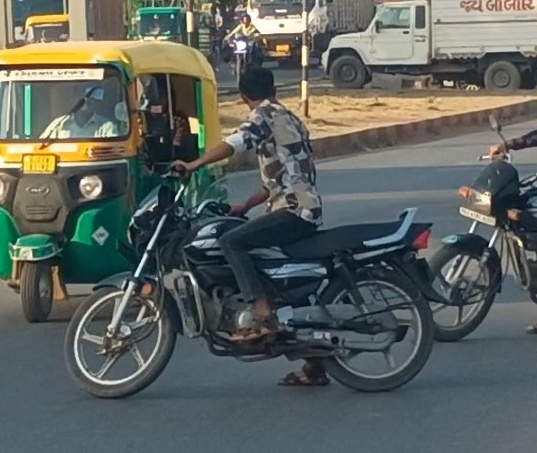BikeWithRider: (56, 62, 443, 414)
NoHelmet: (233, 66, 280, 110)
